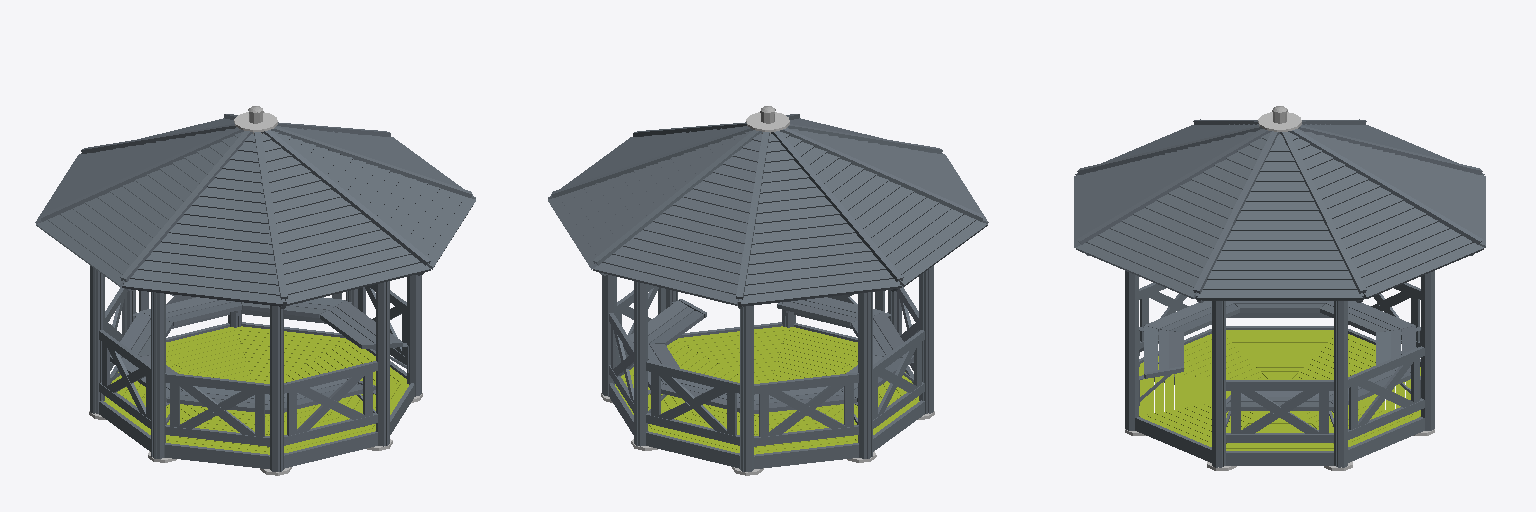
File: arbor2.obj
3 views of the same model, side by side, from view 1: azimuth 30°, elevation 25°; view 2: azimuth 150°, elevation 25°; view 3: azimuth 270°, elevation 25° (orthographic).
Parts seen in each view (by area): view 1: 3dSolid, 3dSolid06, 3dSolid07, 3dSolid05, 3dSolid08, 3dSolid04, 3dSolid01; view 2: 3dSolid, 3dSolid04, 3dSolid03, 3dSolid05, 3dSolid02, 3dSolid06, 3dSolid01; view 3: 3dSolid, 3dSolid01, 3dSolid02, 3dSolid08, 3dSolid03, 3dSolid07, 3dSolid06, 3dSolid04.
Boxes of the visible parts, x1=… form: 3dSolid: x1=39, y1=106, x2=472, y2=475; 3dSolid06: x1=122, y1=134, x2=282, y2=305; 3dSolid07: x1=262, y1=133, x2=430, y2=305; 3dSolid05: x1=36, y1=132, x2=242, y2=286; 3dSolid08: x1=272, y1=131, x2=475, y2=269; 3dSolid04: x1=35, y1=127, x2=237, y2=223; 3dSolid01: x1=276, y1=126, x2=475, y2=198; 3dSolid: x1=551, y1=106, x2=984, y2=475; 3dSolid04: x1=741, y1=134, x2=901, y2=305; 3dSolid03: x1=593, y1=133, x2=761, y2=305; 3dSolid05: x1=781, y1=132, x2=987, y2=286; 3dSolid02: x1=548, y1=131, x2=751, y2=269; 3dSolid06: x1=787, y1=127, x2=988, y2=223; 3dSolid01: x1=548, y1=126, x2=747, y2=198; 3dSolid: x1=1077, y1=106, x2=1482, y2=470; 3dSolid01: x1=1197, y1=134, x2=1362, y2=299; 3dSolid02: x1=1289, y1=132, x2=1483, y2=298; 3dSolid08: x1=1076, y1=132, x2=1270, y2=298; 3dSolid03: x1=1297, y1=129, x2=1485, y2=247; 3dSolid07: x1=1074, y1=129, x2=1262, y2=247; 3dSolid06: x1=1075, y1=124, x2=1258, y2=175; 3dSolid04: x1=1302, y1=124, x2=1484, y2=175.
Bounding box in the file's own units: 4190 × 3350 × 4190.